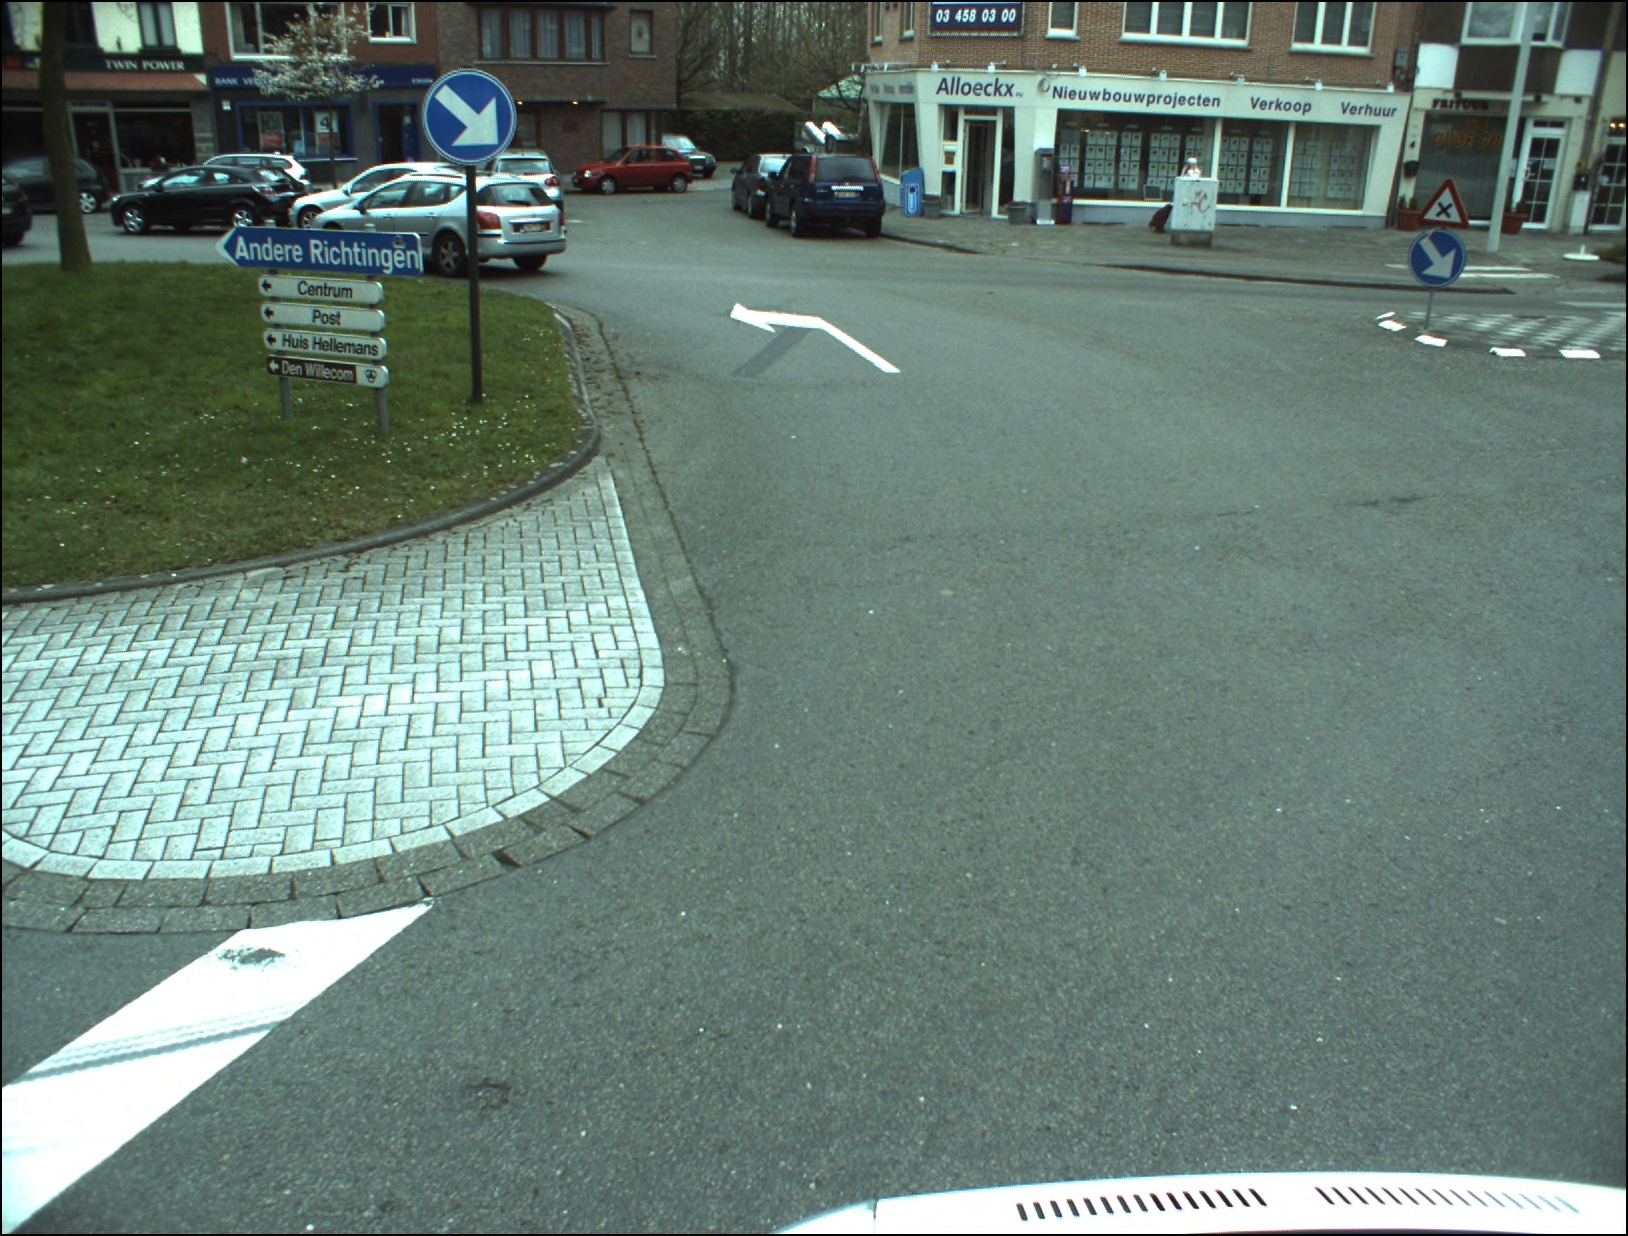passright: (423, 70, 514, 161), (1409, 230, 1463, 287)
